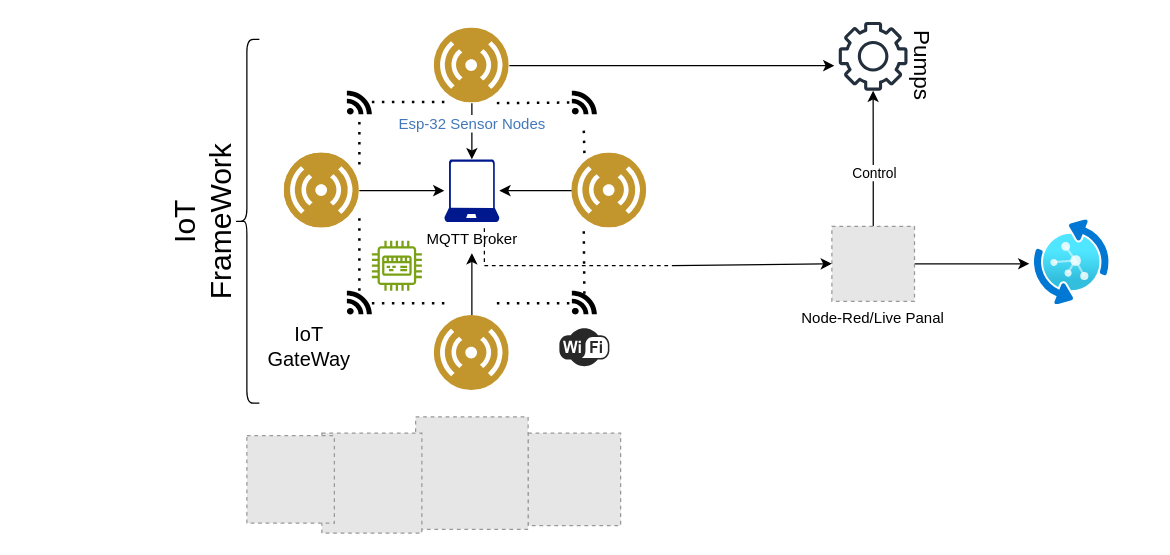
This 1170x555 diagram has some shape labels left out. Grey dashed boxes stand in for pictures. Each missing label, with the centre of its shape:
"Remotely Access GUI" goes at point (1071, 261).
"Sensor Nodes" goes at point (471, 352).
